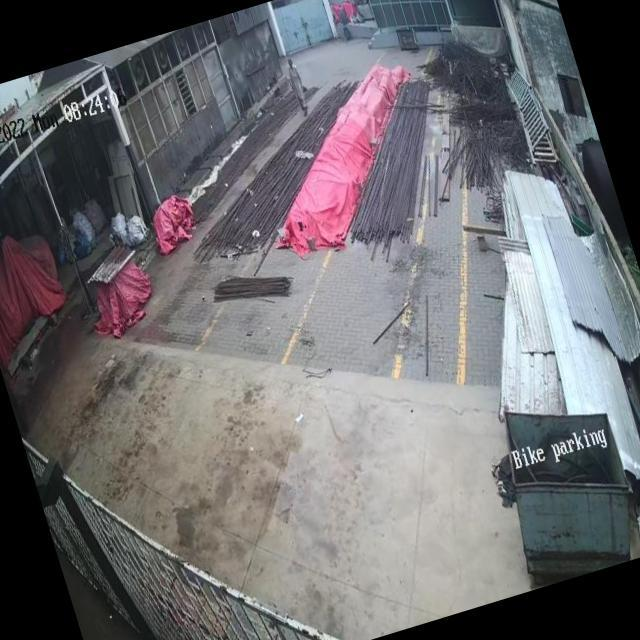person: (280, 51, 312, 114)
